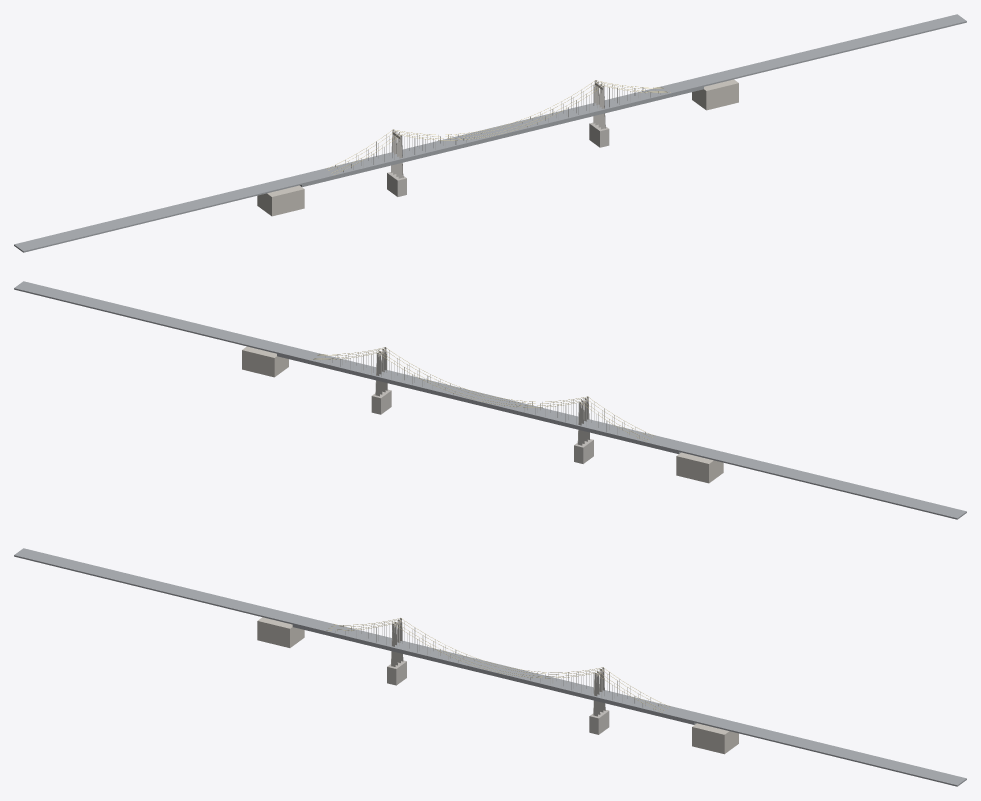
File: bridge.lod2.glb
3 views of the same model, one above another, from view 1: azimuth 30°, elevation 25°; view 2: azimuth 150°, elevation 25°; view 3: azimuth 330°, elevation 25° (orthographic).
Parts seen in each view (by area): view 1: bridge_proxy_deck, bridge_proxy_suspenders, bridge_proxy_cables, bridge_proxy_anchorage_manhattan, bridge_proxy_anchorage_brooklyn, bridge_proxy_tower_brooklyn, bridge_proxy_tower_manhattan; view 2: bridge_proxy_deck, bridge_proxy_suspenders, bridge_proxy_cables, bridge_proxy_anchorage_manhattan, bridge_proxy_anchorage_brooklyn, bridge_proxy_tower_brooklyn, bridge_proxy_tower_manhattan; view 3: bridge_proxy_deck, bridge_proxy_suspenders, bridge_proxy_cables, bridge_proxy_anchorage_brooklyn, bridge_proxy_anchorage_manhattan, bridge_proxy_tower_brooklyn, bridge_proxy_tower_manhattan.
Boxes of the visible parts, left/top/right/bottom form: bridge_proxy_deck: left=14, top=14, right=966, bottom=252; bridge_proxy_suspenders: left=335, top=82, right=660, bottom=172; bridge_proxy_cables: left=327, top=80, right=670, bottom=174; bridge_proxy_anchorage_manhattan: left=257, top=185, right=304, bottom=216; bridge_proxy_anchorage_brooklyn: left=692, top=79, right=738, bottom=110; bridge_proxy_tower_brooklyn: left=589, top=80, right=609, bottom=147; bridge_proxy_tower_manhattan: left=387, top=129, right=406, bottom=196; bridge_proxy_deck: left=14, top=281, right=966, bottom=519; bridge_proxy_suspenders: left=320, top=349, right=645, bottom=439; bridge_proxy_cables: left=310, top=347, right=653, bottom=441; bridge_proxy_anchorage_manhattan: left=676, top=452, right=723, bottom=483; bridge_proxy_anchorage_brooklyn: left=242, top=346, right=288, bottom=377; bridge_proxy_tower_brooklyn: left=371, top=347, right=391, bottom=414; bridge_proxy_tower_manhattan: left=574, top=396, right=593, bottom=463; bridge_proxy_deck: left=14, top=548, right=966, bottom=786; bridge_proxy_suspenders: left=335, top=620, right=660, bottom=709; bridge_proxy_cables: left=326, top=618, right=669, bottom=712; bridge_proxy_anchorage_brooklyn: left=692, top=723, right=738, bottom=754; bridge_proxy_anchorage_manhattan: left=257, top=617, right=304, bottom=647; bridge_proxy_tower_brooklyn: left=589, top=667, right=609, bottom=734; bridge_proxy_tower_manhattan: left=387, top=618, right=406, bottom=685.
Size of the model in its own units: 2089 by 127 by 55.47.
